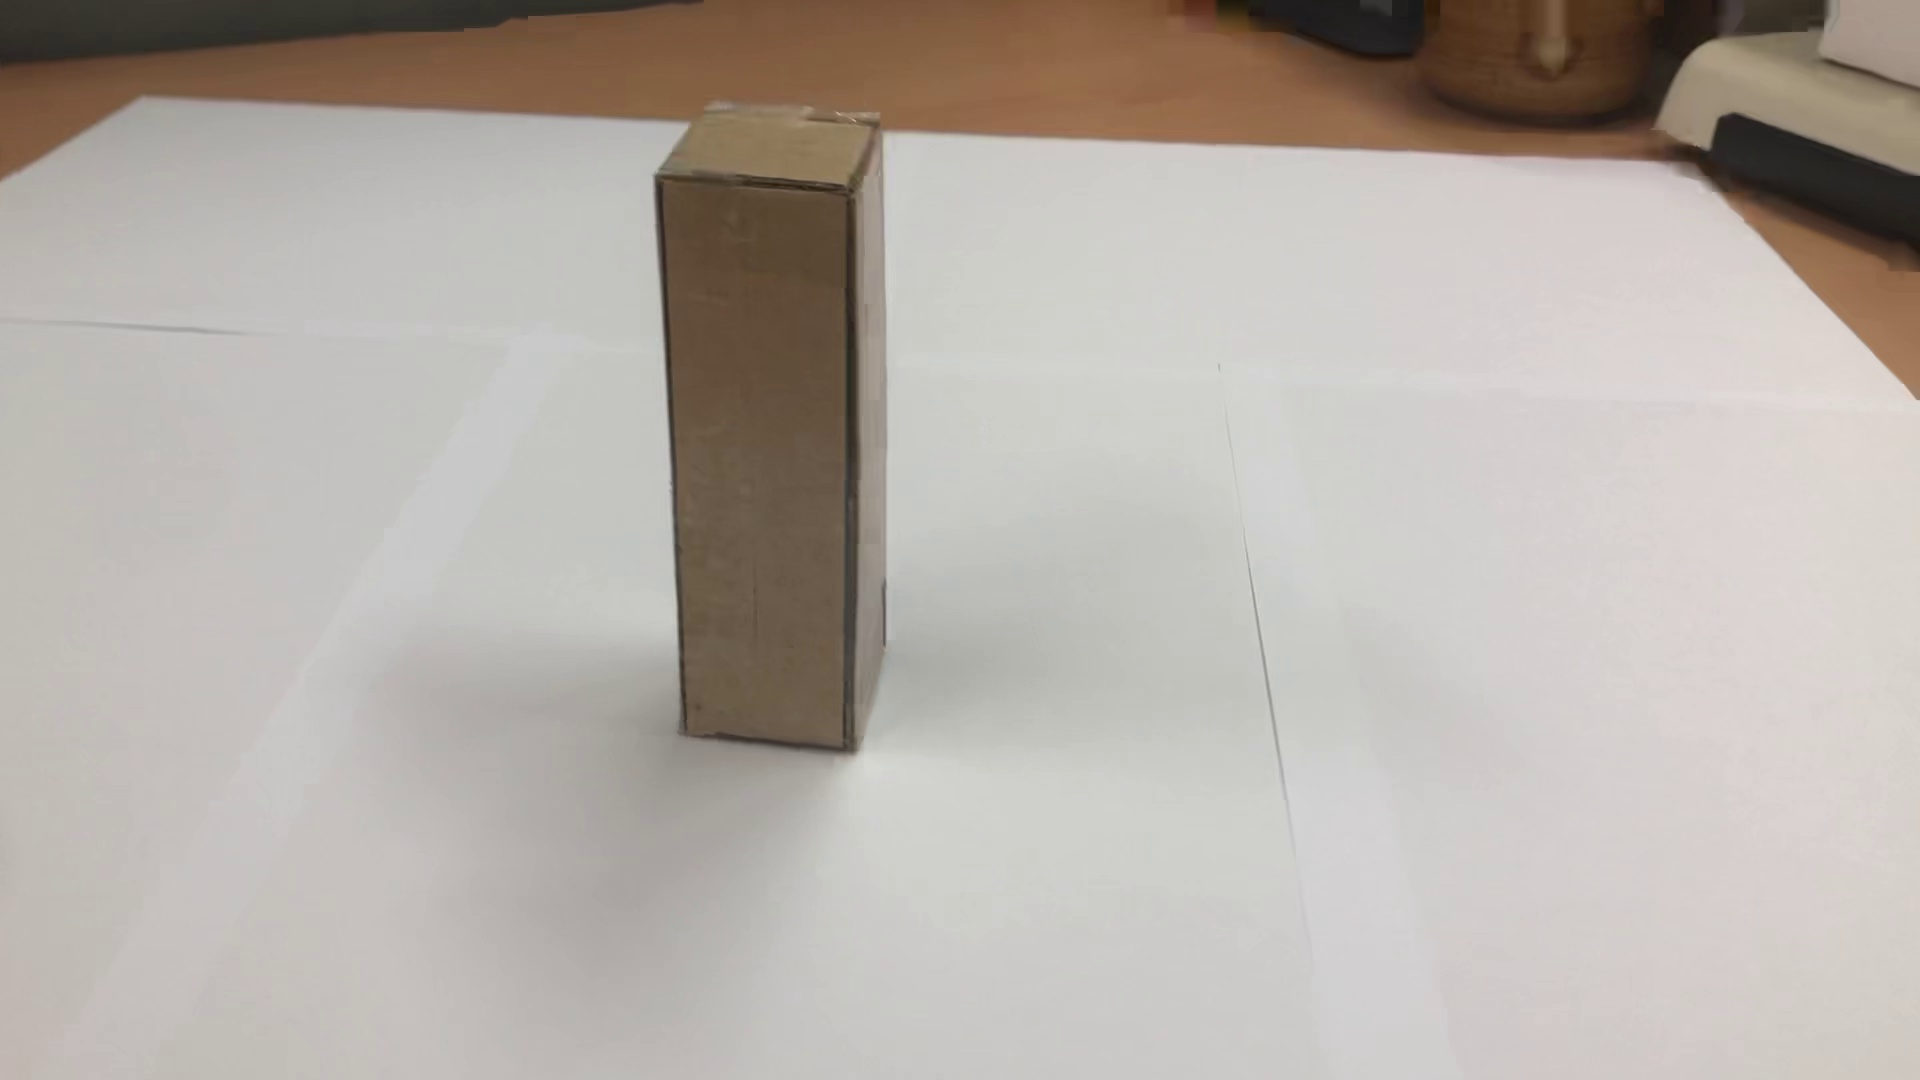box: (626, 84, 913, 777)
